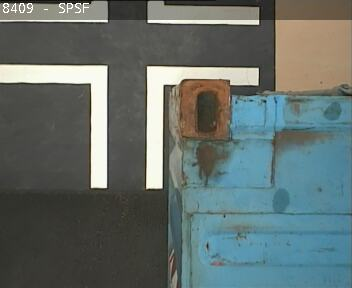groundmarker_1: (1, 64, 257, 187)
